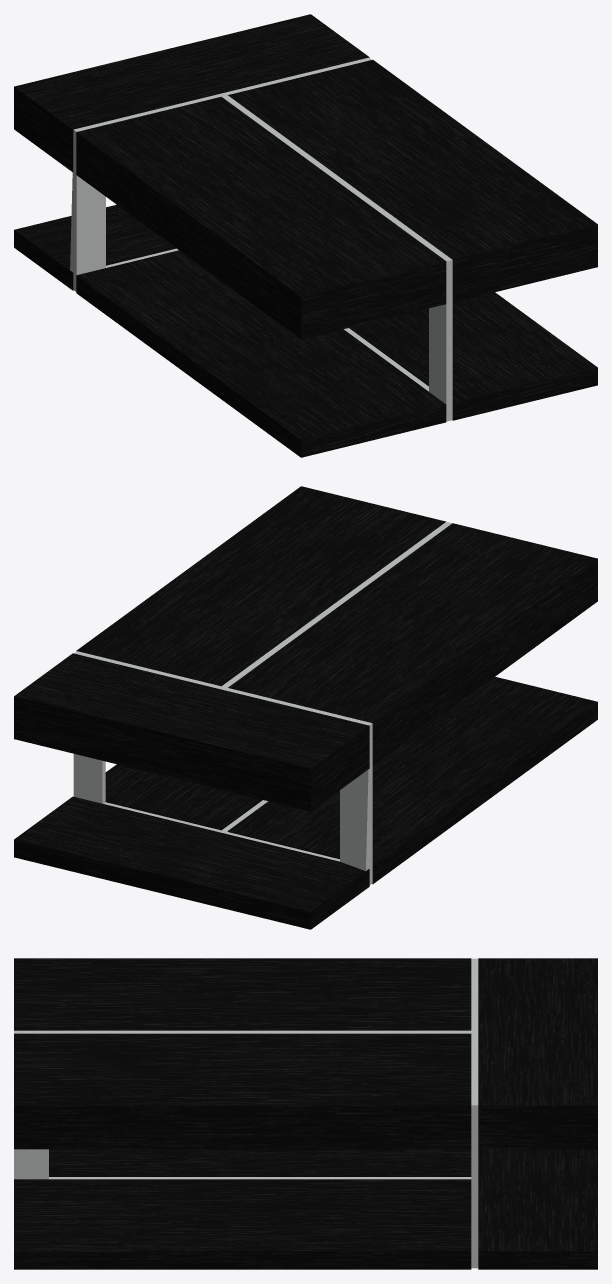
The model's file is Table.glb.
3 views of the same model, one above another, from view 1: azimuth 30°, elevation 25°; view 2: azimuth 150°, elevation 25°; view 3: azimuth 270°, elevation 25° (orthographic).
Visible parts, largest first — view 1: Cube, Cube.006; view 2: Cube, Cube.006; view 3: Cube, Cube.006.
Boxes of the visible parts, left/top/right/bottom form: Cube: left=14, top=14, right=597, bottom=457; Cube.006: left=70, top=57, right=452, bottom=421; Cube: left=14, top=486, right=597, bottom=929; Cube.006: left=73, top=521, right=452, bottom=884; Cube: left=14, top=958, right=597, bottom=1269; Cube.006: left=14, top=958, right=478, bottom=1268.
Size of the model in its own units: 123 by 63.55 by 205.
Materials: 2 (2 with a texture image).
